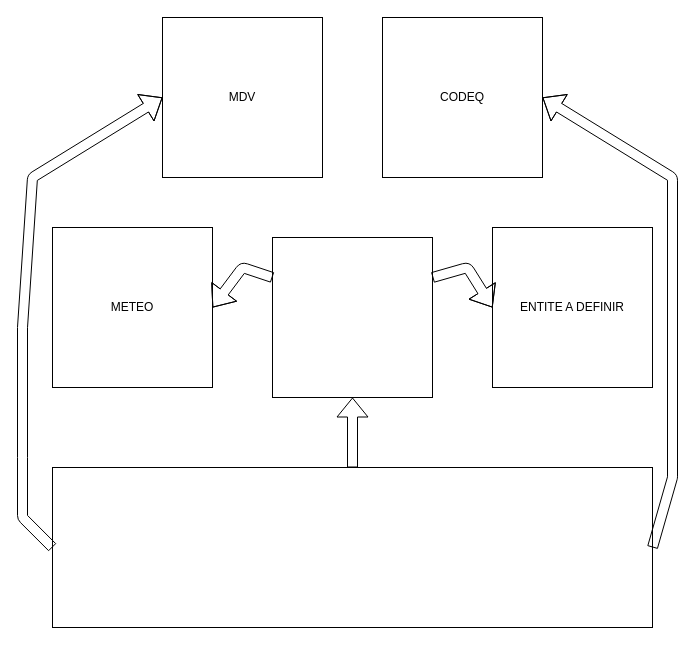
Image size: 695x645. Some labels were removed from this diagram. The shapes that lost their labels are listed below. From the top down, each one's centre as x and y in pixels, then its label:
At point (352, 317): "INFO DOSSIER LOC/IMMAT".
At point (352, 547): "Dialogue chargé/benef".
